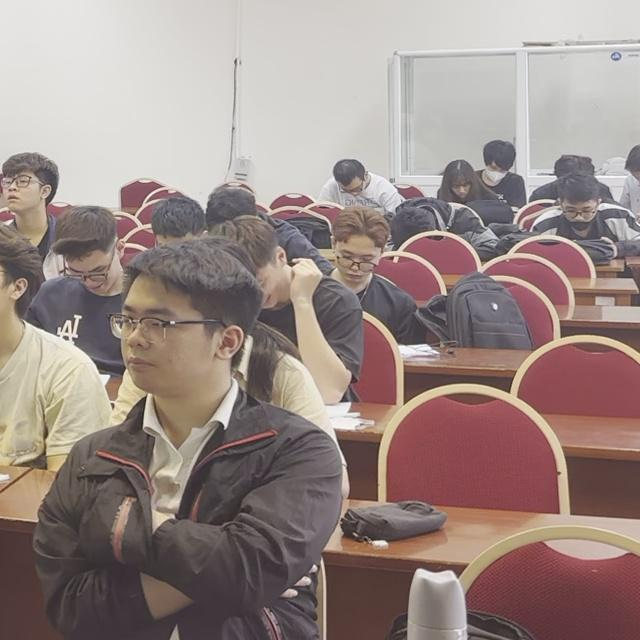Looking away: (337, 245, 378, 284), (565, 204, 596, 230), (340, 183, 365, 197), (454, 183, 470, 199)
Looking forward: (119, 299, 189, 388), (2, 174, 36, 209)
